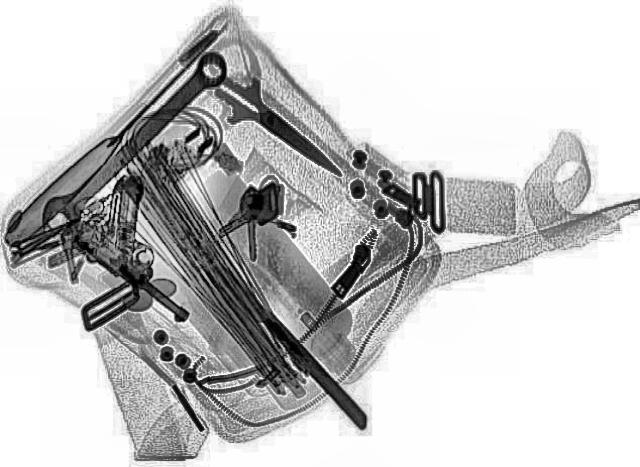Gun: (42, 169, 266, 322)
Knife: (0, 27, 232, 241), (189, 63, 367, 188)
Wrench: (21, 44, 242, 238)
